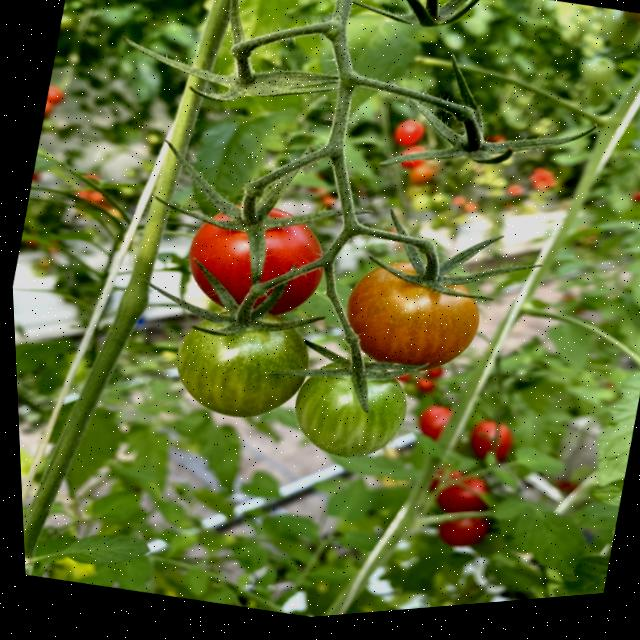ripe0: (169, 303, 315, 426), (287, 353, 413, 465)
ripe1: (338, 253, 487, 377)
ripe2: (180, 194, 334, 322)
